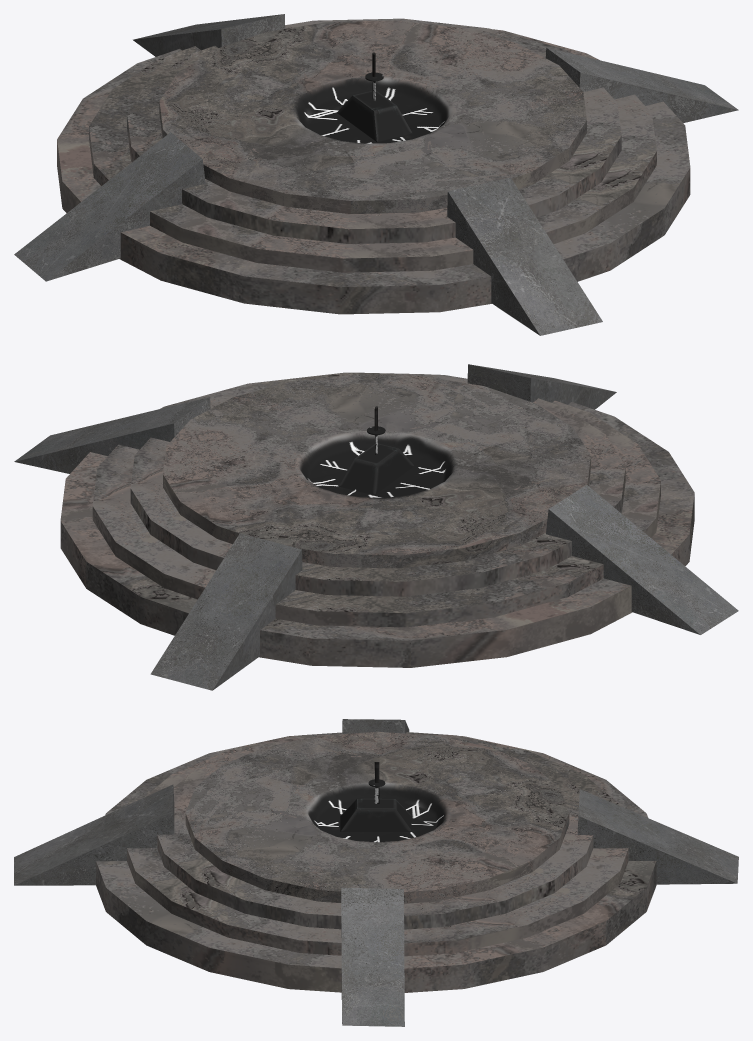
The model's file is the_dark_altar.glb.
3 views of the same model, one above another, from view 1: azimuth 30°, elevation 25°; view 2: azimuth 150°, elevation 25°; view 3: azimuth 270°, elevation 25° (orthographic). The views are drawn at different scales.
Visible parts, largest first — view 1: Altar_piece_1, Altar_piece_4, Altar_piece_3, Altar_piece_2, Altar_piece_5, Altar_piece_6, Altar_piece_8, Altar_piece_7, Altar_pedastal; view 2: Altar_piece_1, Altar_piece_4, Altar_piece_3, Altar_piece_2, Altar_piece_7, Altar_piece_6, Altar_piece_8, Altar_piece_5, Altar_pedastal; view 3: Altar_piece_1, Altar_piece_4, Altar_piece_3, Altar_piece_2, Altar_piece_8, Altar_piece_5, Altar_piece_7, Altar_pedastal, Altar_piece_6.
Boxes of the visible parts, x1=… form: Altar_piece_1: x1=159, y1=20, x2=586, y2=213; Altar_piece_4: x1=57, y1=29, x2=690, y2=314; Altar_piece_3: x1=89, y1=18, x2=656, y2=272; Altar_piece_2: x1=127, y1=20, x2=621, y2=243; Altar_piece_5: x1=447, y1=177, x2=602, y2=335; Altar_piece_6: x1=14, y1=132, x2=205, y2=281; Altar_piece_8: x1=545, y1=47, x2=738, y2=122; Altar_piece_7: x1=133, y1=14, x2=285, y2=56; Altar_pedastal: x1=337, y1=90, x2=412, y2=141; Altar_piece_1: x1=163, y1=374, x2=590, y2=568; Altar_piece_4: x1=60, y1=372, x2=694, y2=667; Altar_piece_3: x1=92, y1=373, x2=660, y2=627; Altar_piece_2: x1=130, y1=372, x2=625, y2=596; Altar_piece_7: x1=150, y1=533, x2=302, y2=690; Altar_piece_6: x1=546, y1=485, x2=738, y2=634; Altar_piece_8: x1=14, y1=397, x2=210, y2=473; Altar_piece_5: x1=467, y1=364, x2=616, y2=409; Altar_pedastal: x1=339, y1=443, x2=414, y2=495; Altar_piece_1: x1=185, y1=731, x2=569, y2=903; Altar_piece_4: x1=96, y1=735, x2=656, y2=992; Altar_piece_3: x1=127, y1=732, x2=628, y2=956; Altar_piece_2: x1=157, y1=732, x2=593, y2=929; Altar_piece_8: x1=341, y1=887, x2=404, y2=1026; Altar_piece_5: x1=14, y1=784, x2=174, y2=885; Altar_piece_7: x1=577, y1=789, x2=738, y2=884; Altar_pedastal: x1=340, y1=798, x2=411, y2=831; Altar_piece_6: x1=342, y1=719, x2=409, y2=733.
Size of the model in its own units: 1955 by 356 by 1989.
Materials: 4 (4 with a texture image).
